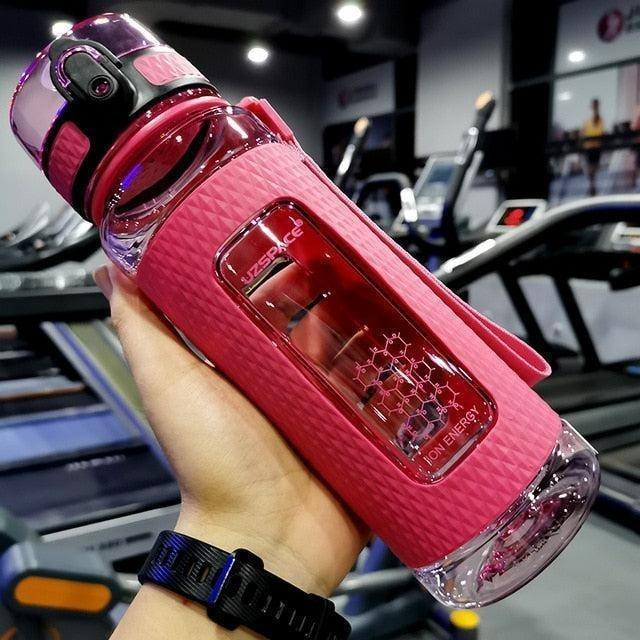gym bottle: (7, 9, 603, 610)
